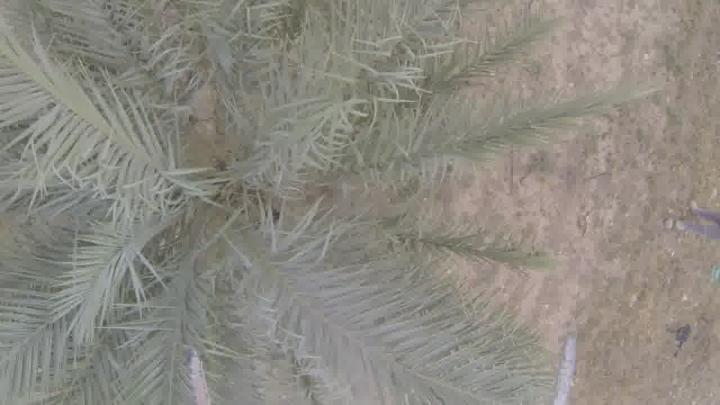Date-Palm-Crown: (17, 0, 434, 404)
